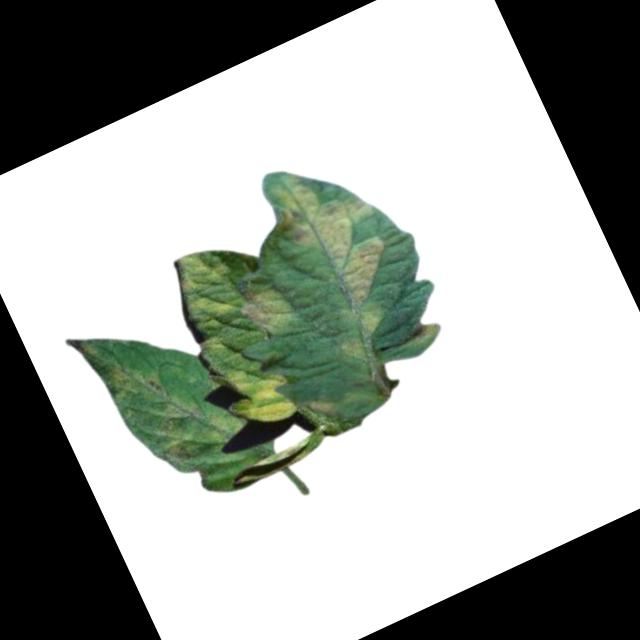Leaf_Mold: (64, 293, 246, 494), (258, 149, 411, 328), (165, 240, 248, 336), (214, 350, 301, 439), (327, 304, 398, 369), (238, 278, 303, 343), (405, 309, 445, 348)
